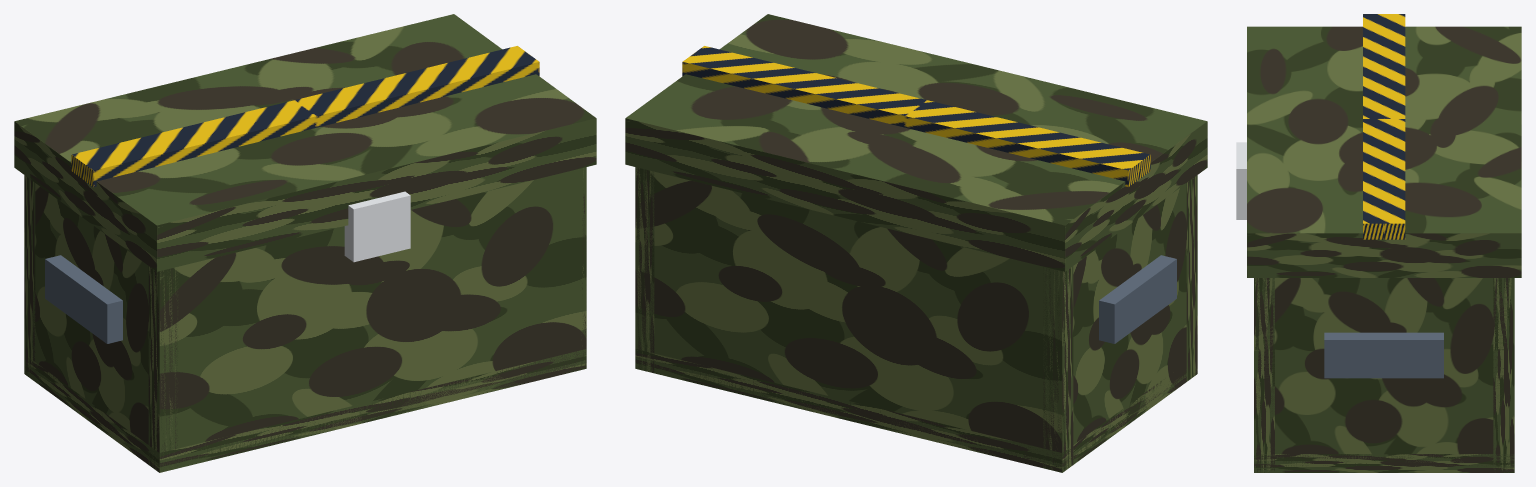
The model's file is ammo_chest_heavy.glb.
The picture shows the model from 3 angles, left to right: view 1: azimuth 30°, elevation 25°; view 2: azimuth 150°, elevation 25°; view 3: azimuth 270°, elevation 25°; orthographic projection. The views are drawn at different scales.
Visible parts, largest first — view 1: ammo_chest_heavy, chest_lid_pivot; view 2: ammo_chest_heavy, chest_lid_pivot; view 3: chest_lid_pivot, ammo_chest_heavy.
Part boxes in pixels (x1=…): ammo_chest_heavy: x1=24, y1=167, x2=586, y2=472; chest_lid_pivot: x1=14, y1=14, x2=596, y2=271; ammo_chest_heavy: x1=635, y1=167, x2=1197, y2=472; chest_lid_pivot: x1=625, y1=14, x2=1207, y2=271; chest_lid_pivot: x1=1236, y1=14, x2=1521, y2=277; ammo_chest_heavy: x1=1254, y1=278, x2=1514, y2=472.
Bounding box in the file's own units: 1.45 × 0.795 × 0.81.
Materials: 5 (2 with a texture image).
